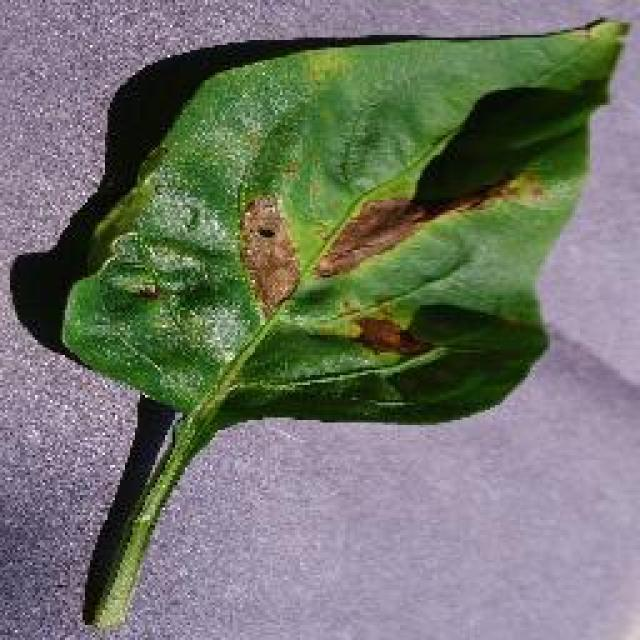Chilli_Bacterial_Spot: (55, 15, 633, 427), (103, 178, 435, 368), (308, 168, 538, 282), (310, 192, 432, 282), (232, 190, 302, 320), (347, 308, 425, 360), (122, 275, 162, 305), (252, 218, 280, 242)
